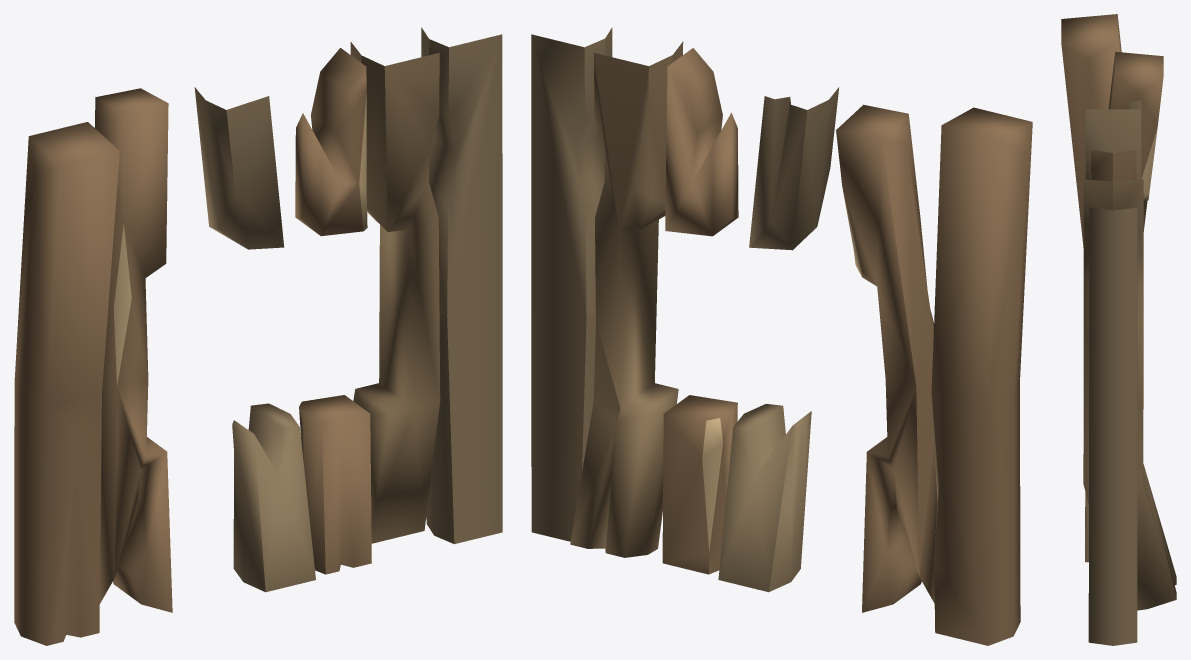
Rendered from rpgpp_av_wall_02_3x3_window_01b.gltf.
3 views of the same model, side by side, from view 1: azimuth 30°, elevation 25°; view 2: azimuth 150°, elevation 25°; view 3: azimuth 270°, elevation 25° (orthographic). The views are drawn at different scales.
Parts seen in each view (by area): view 1: rpgpp_av_wall_02_3x3_window_01b; view 2: rpgpp_av_wall_02_3x3_window_01b; view 3: rpgpp_av_wall_02_3x3_window_01b.
Part boxes in pixels (<box>): rpgpp_av_wall_02_3x3_window_01b: <box>14,27,502,645</box>; rpgpp_av_wall_02_3x3_window_01b: <box>531,27,1032,645</box>; rpgpp_av_wall_02_3x3_window_01b: <box>1061,14,1176,645</box>.
Bounding box in the file's own units: 0.03 × 0.03 × 0.00719.
1 material, 1 textured.
